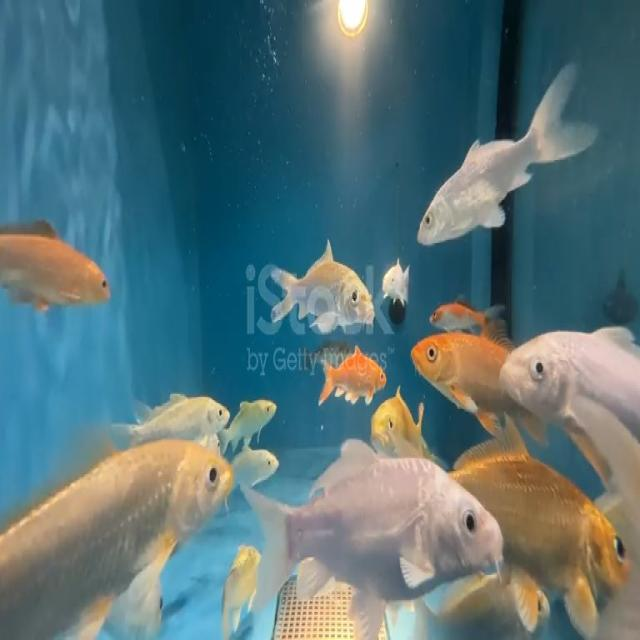fish: (0, 433, 233, 595), (414, 54, 603, 251), (248, 466, 505, 607), (468, 444, 635, 596), (492, 320, 640, 433), (1, 215, 112, 318), (263, 251, 379, 338), (407, 325, 503, 422), (312, 346, 390, 401), (132, 395, 232, 436), (424, 287, 508, 335), (369, 395, 418, 455), (228, 392, 276, 435), (238, 446, 283, 486), (382, 254, 410, 314)
